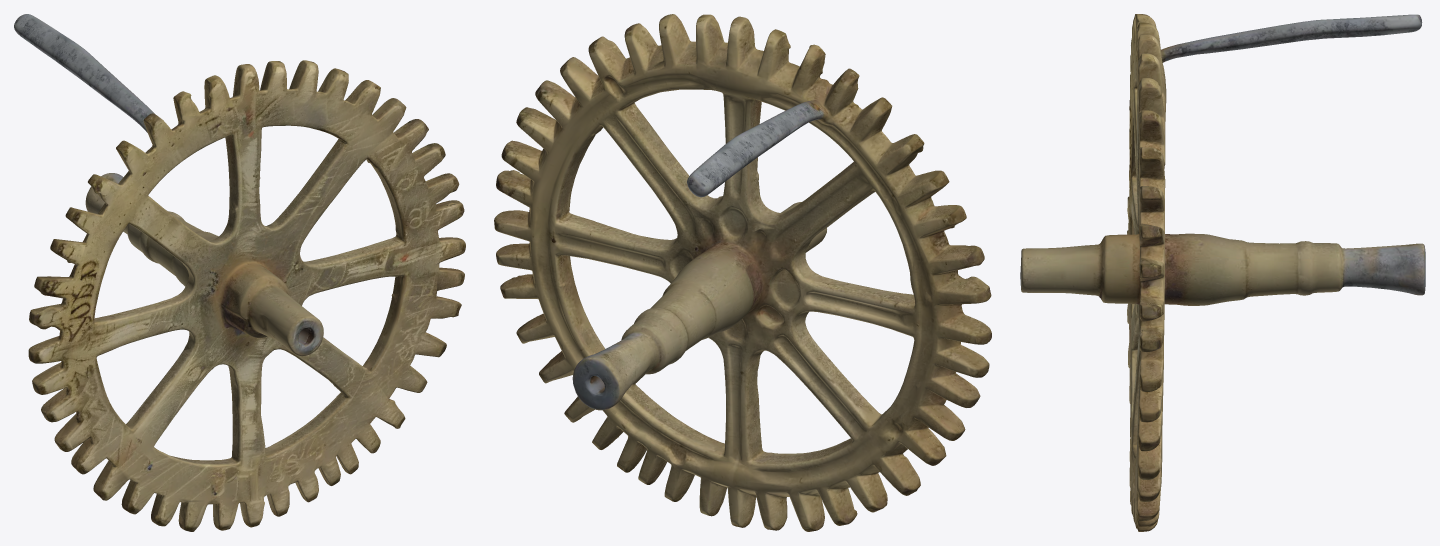
Rendered from gear-a.glb.
3 renders of one model, left to right at view 1: azimuth 30°, elevation 25°; view 2: azimuth 150°, elevation 25°; view 3: azimuth 270°, elevation 25°, orthographic. The views are drawn at different scales.
Parts seen in each view (by area): view 1: material; view 2: material; view 3: material.
Boxes of the visible parts, bbox=[...] form: material: bbox=[14, 14, 465, 531]; material: bbox=[494, 14, 991, 531]; material: bbox=[1020, 14, 1425, 531].
Size of the model in its own units: 0.9672 by 0.9666 by 0.7521.
Materials: 1 (1 with a texture image).
